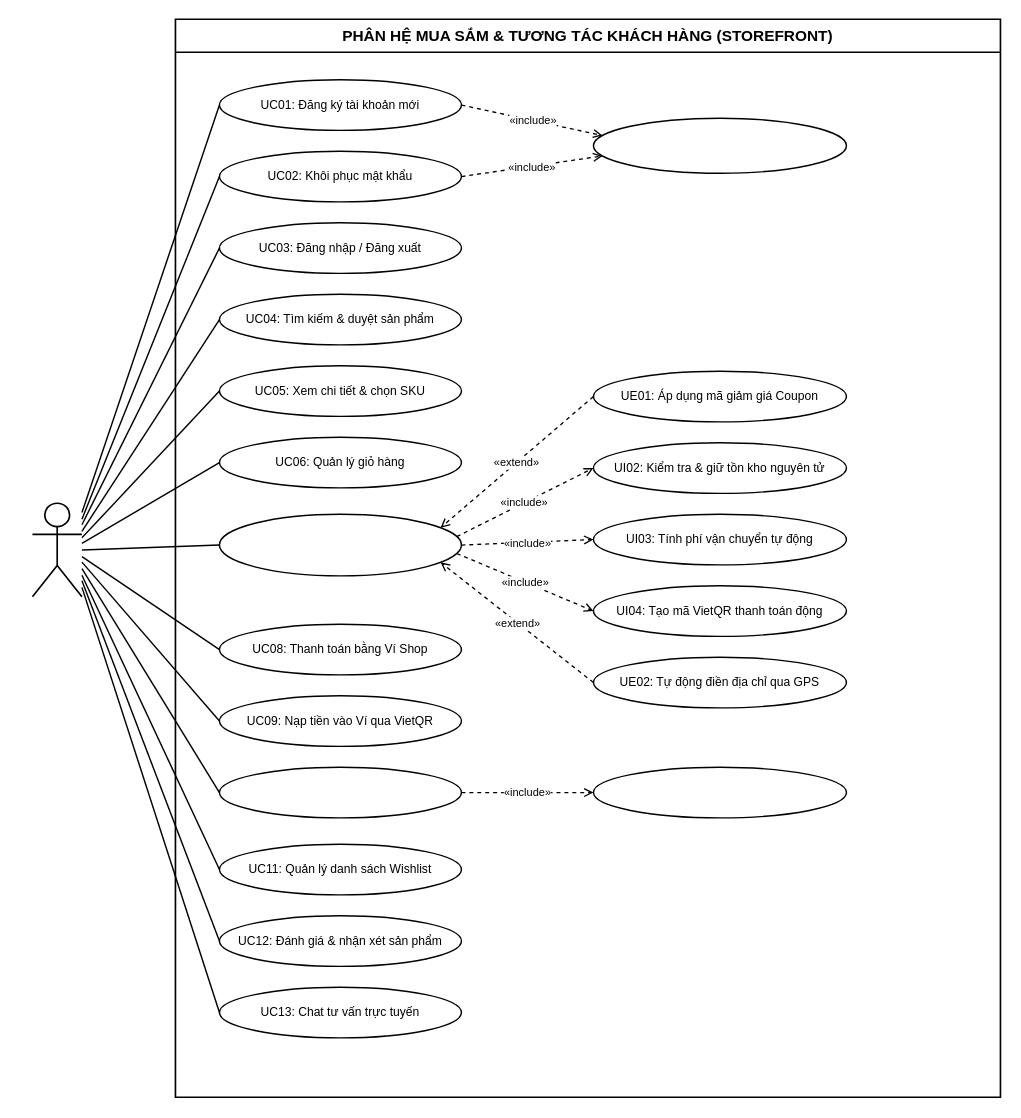
The diagram is 1021 pixels wide and 1118 high, and some of its shapes have lost their labels. Each missing label, with the centre of its shape:
Khách hàng (Customer): the point at 56,549
UC07: Đặt hàng sản phẩm: the point at 340,544
UC10: Hủy đơn hàng: the point at 340,792
UI01: Xác thực mã OTP qua Email: the point at 719,145
UI05: Hoàn tiền 100% vào Ví Shop: the point at 719,792
